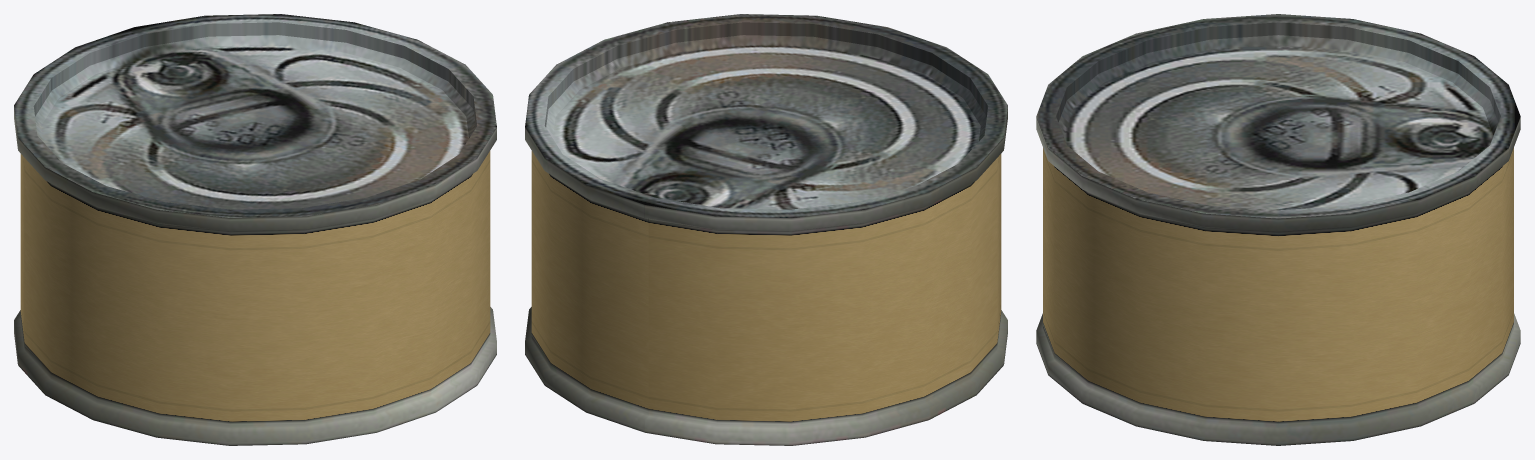
Rendered from Food_in_Can.fbx.
The picture shows the model from 3 angles, left to right: view 1: azimuth 30°, elevation 25°; view 2: azimuth 150°, elevation 25°; view 3: azimuth 270°, elevation 25°; orthographic projection.
Parts seen in each view (by area): view 1: pCylinder1; view 2: pCylinder1; view 3: pCylinder1.
Boxes of the visible parts, x1,y1,x2,y2 form: pCylinder1: (14,14,496,445); pCylinder1: (525,14,1007,445); pCylinder1: (1036,14,1520,445).
Size of the model in its own units: 3.91 by 2.02 by 3.91.
